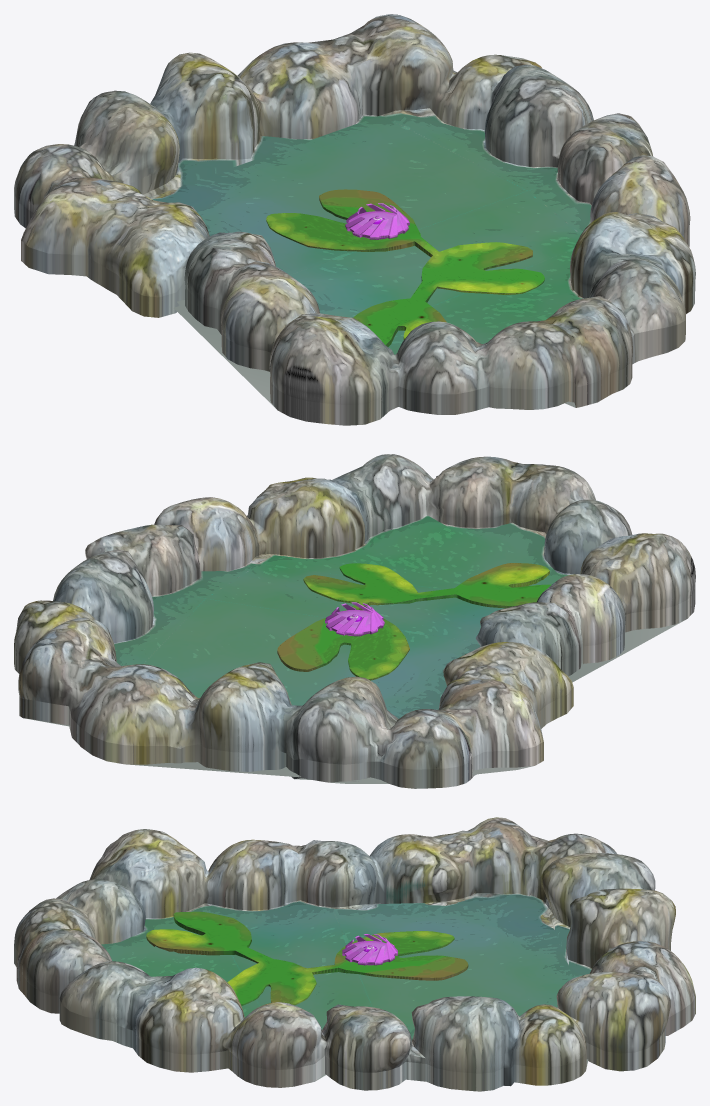
Rendered from Pond.fbx.
3 views of the same model, one above another, from view 1: azimuth 30°, elevation 25°; view 2: azimuth 150°, elevation 25°; view 3: azimuth 270°, elevation 25° (orthographic). The views are drawn at different scales.
Visible parts, largest first — view 1: pSphere20, pCube4, pCylinder2; view 2: pSphere20, pCube4, pCylinder2; view 3: pSphere20, pCube4, pCylinder2.
Part boxes in pixels (<box>): pSphere20: <box>14,14,695,425</box>; pCube4: <box>266,189,544,346</box>; pCylinder2: <box>345,203,409,239</box>; pSphere20: <box>14,454,695,788</box>; pCube4: <box>277,563,551,680</box>; pCylinder2: <box>325,602,384,636</box>; pSphere20: <box>14,817,695,1091</box>; pCube4: <box>146,911,468,1005</box>; pCylinder2: <box>342,934,397,965</box>.
Bounding box in the file's own units: 91.74 × 15.29 × 114.
Materials: 3 (3 with a texture image).
